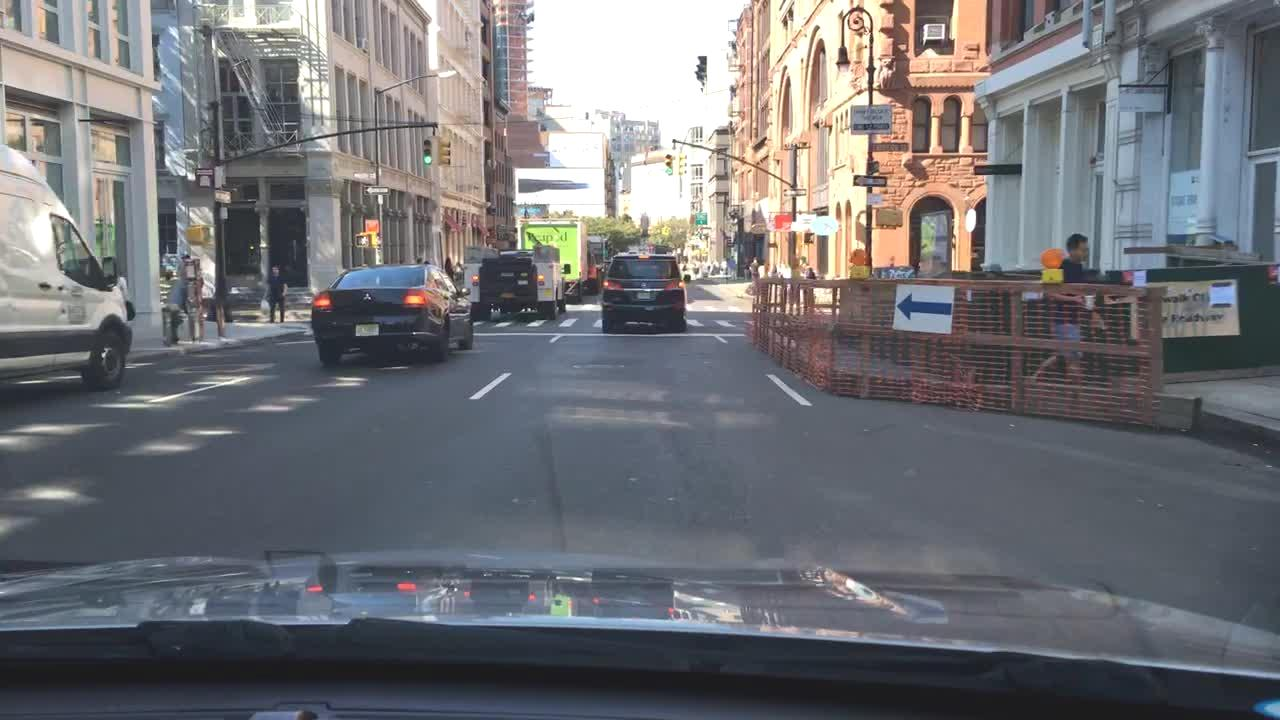Mitsubishi: (359, 288, 377, 306)
